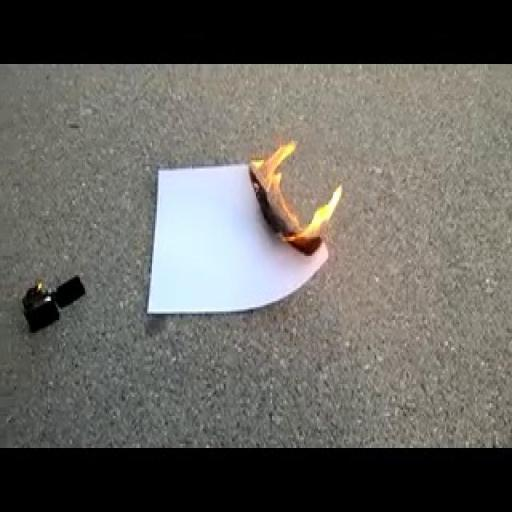smoke: (251, 130, 354, 260)
